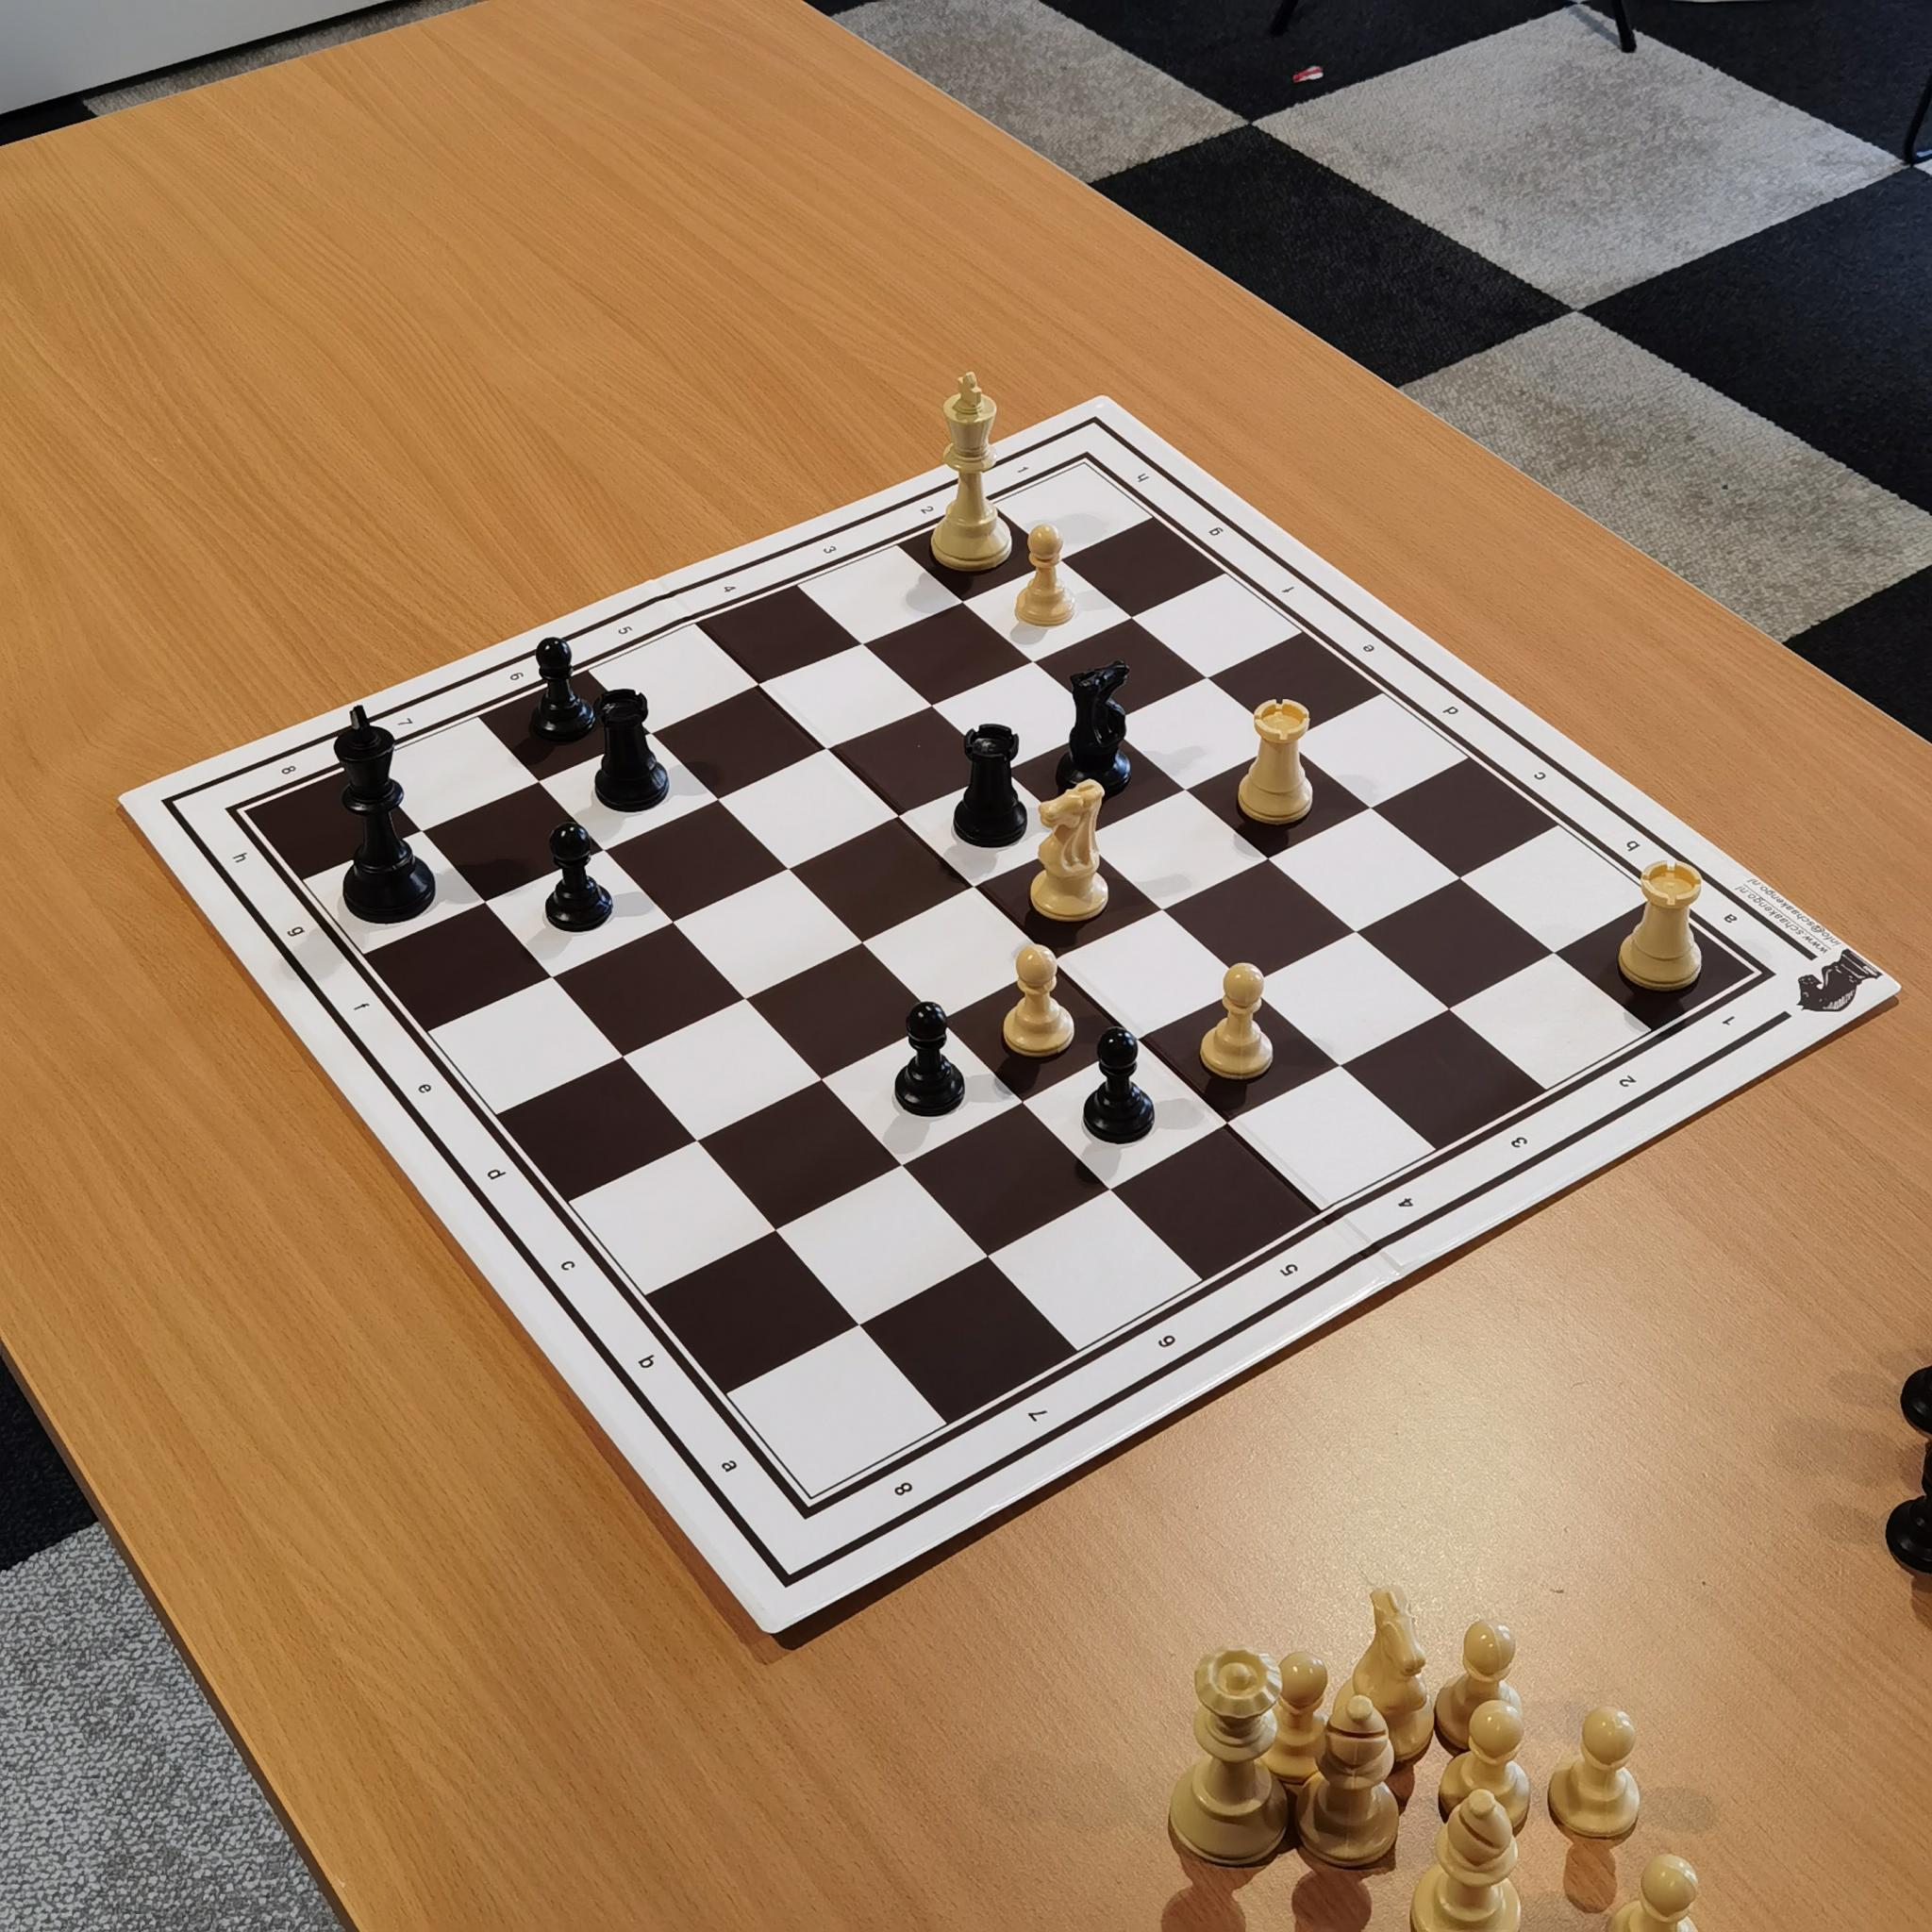corners: (786, 1481, 844, 1537), (1732, 955, 1790, 1001), (211, 800, 271, 842), (1063, 444, 1111, 483)
eight: (874, 1463, 925, 1513), (272, 748, 313, 791)
one: (1711, 1005, 1755, 1044), (1008, 446, 1040, 483)
